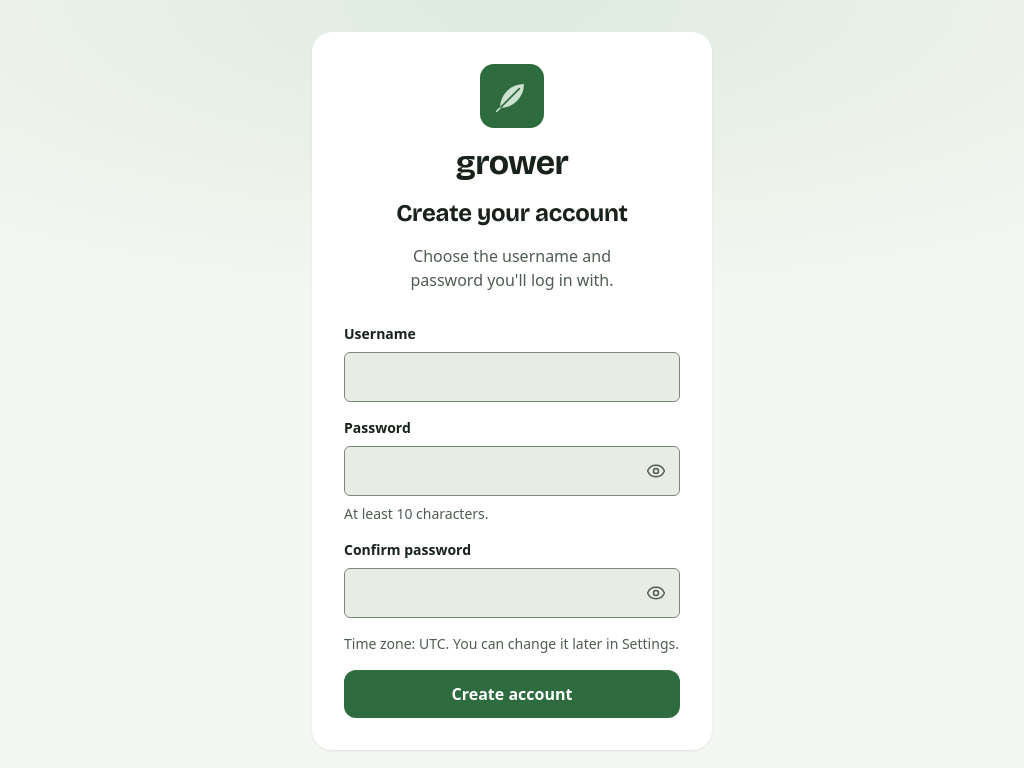
Scenario: Setup › creates the account and lands on Today
Type " fern " into the field labelled "Username".
click(512, 377); type(" fern ")  # box [344,352,680,402]
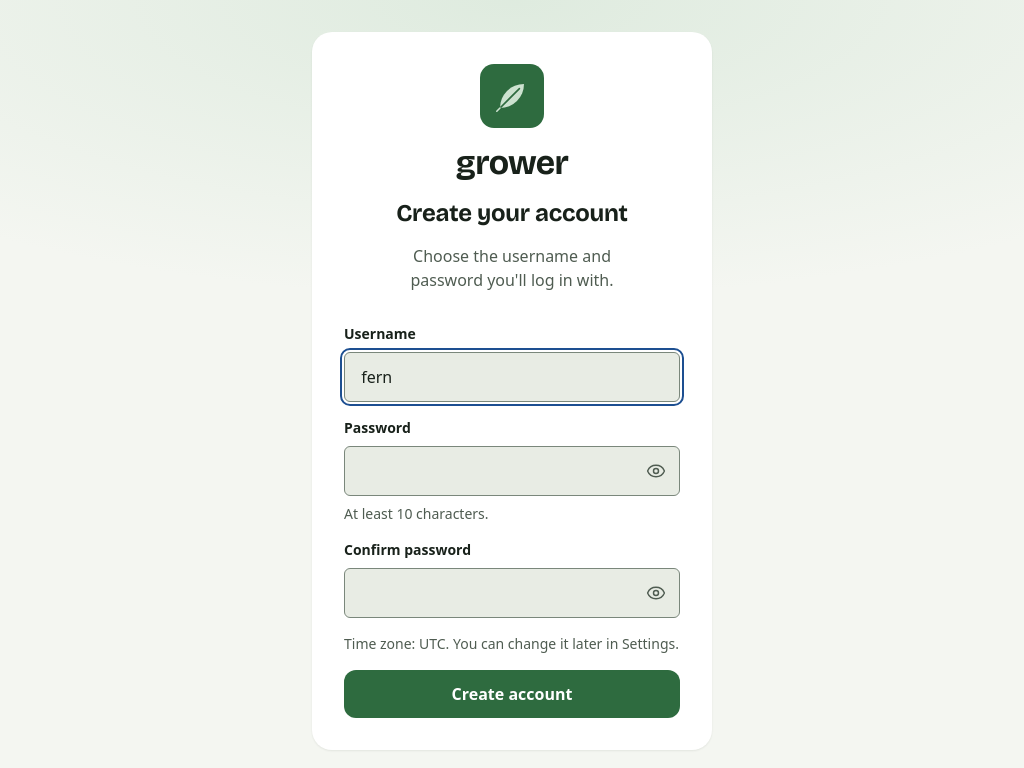
Type "correct-horse" into the password field labelled "Password".
click(512, 471); type("correct-horse")  # box [344,446,680,496]
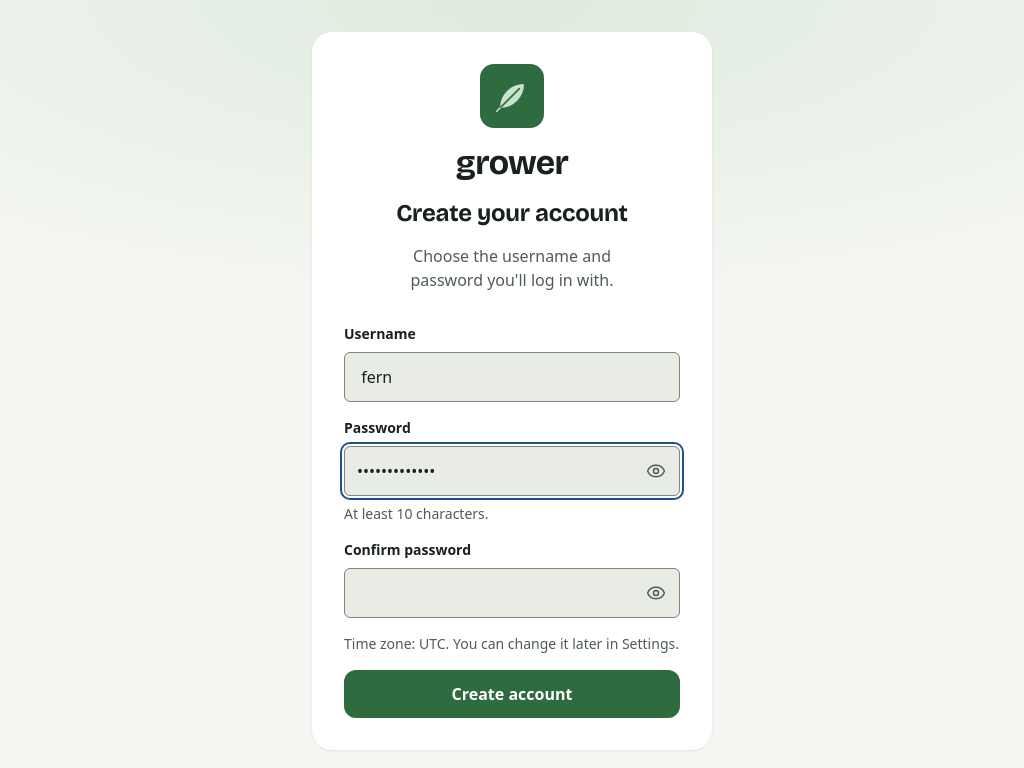
Type "correct-horse" into the password field labelled "Confirm password".
click(512, 593); type("correct-horse")  # box [344,568,680,618]
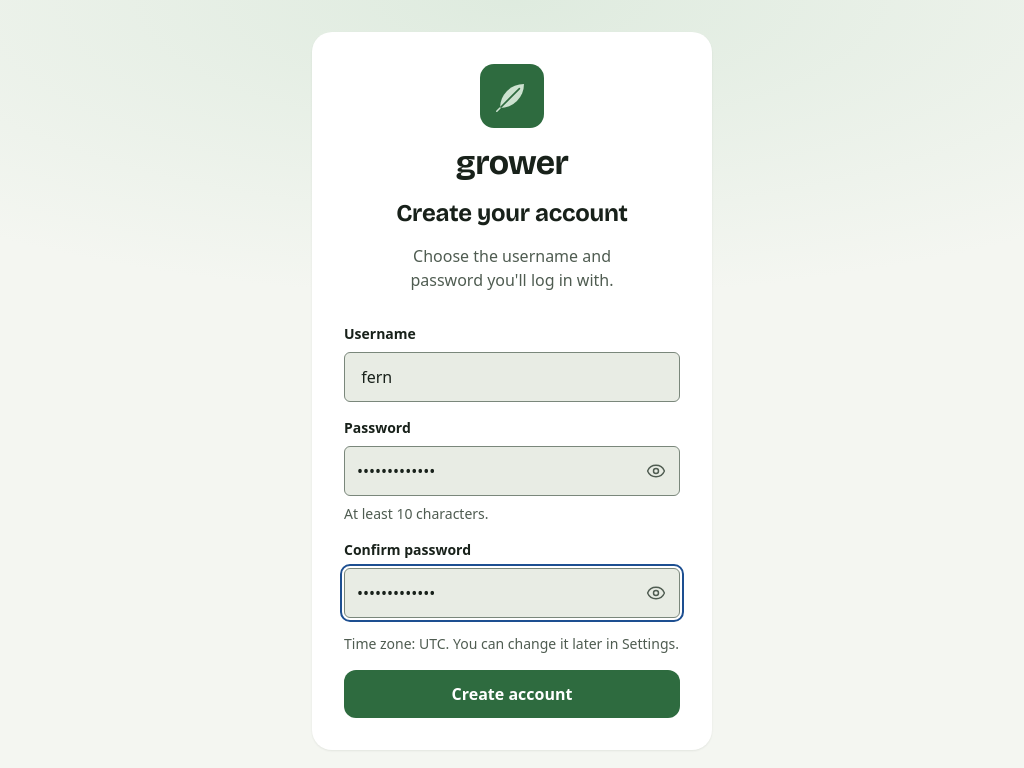
Click the button "Create account".
click(512, 694)  # box [344,670,680,718]
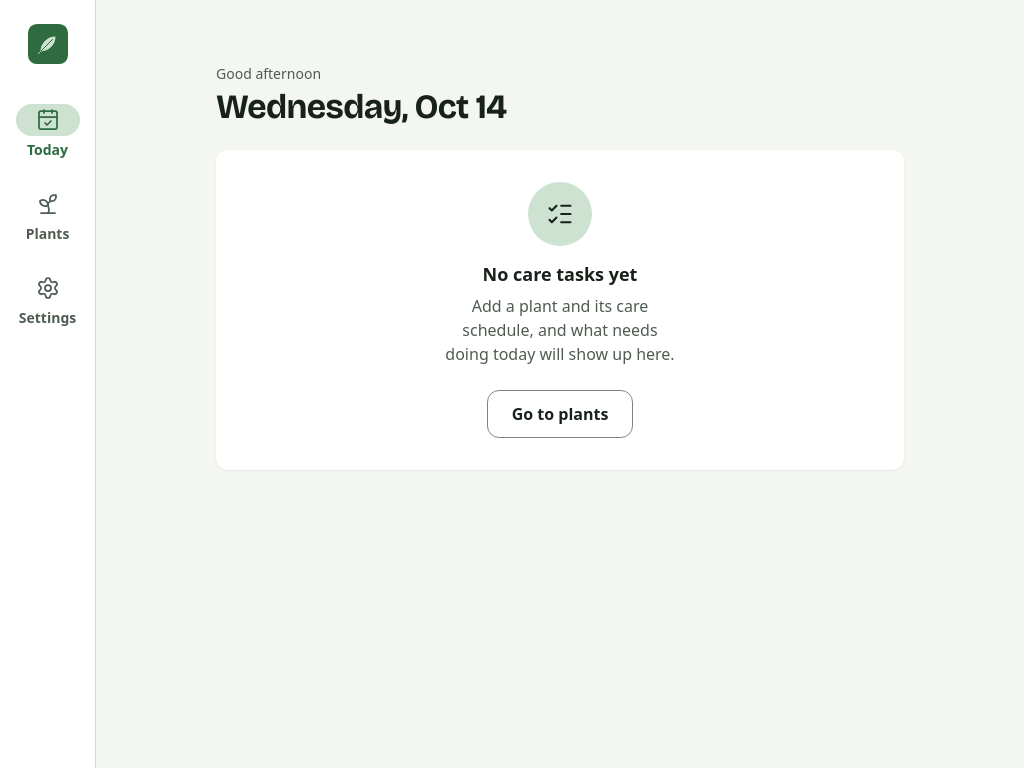
Expected: the heading "No care tasks yet" is shown, [483,262,637,286]
